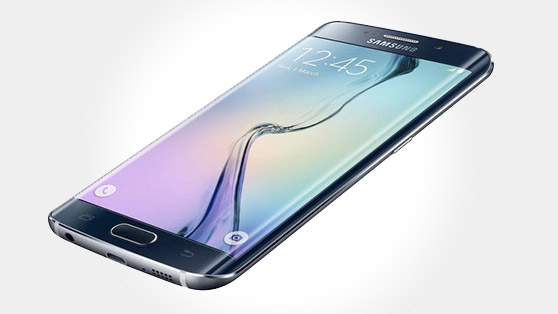mobile: (12, 6, 515, 292)
